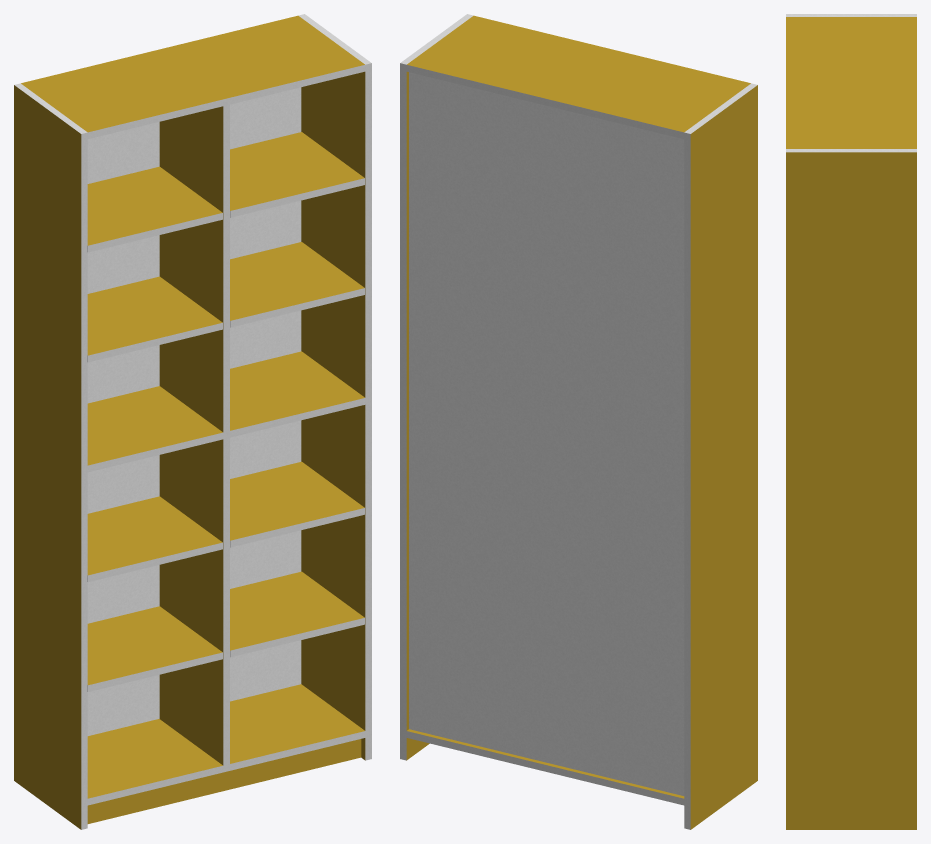
Rendered from FET-BKC-std.glb.
3 views of the same model, side by side, from view 1: azimuth 30°, elevation 25°; view 2: azimuth 150°, elevation 25°; view 3: azimuth 270°, elevation 25° (orthographic). The views are drawn at different scales.
Parts seen in each view (by area): view 1: side-l:pbr, back:sheet:eyJtIjoibWRmIiwic2lkZSI6ImZhY2UiLCJzZWVkIjo0LCJ0a, side-r:pbr, partition:pbr, top:pbr, bottom:pbr, shelf-fixedl:pbr, shelf-3:pbr, shelf-5:pbr, shelf-7:pbr, shelf-1:pbr, shelf-fixedr:pbr (+20 smaller); view 2: back:sheet:eyJtIjoibWRmIiwic2lkZSI6ImZhY2UiLCJzZWVkIjo0LCJ0a, side-l:pbr, top:pbr, side-l:sheet:eyJtIjoibWRmIiwic2lkZSI6ImVkZ2UtbG9uZyIsInNlZWQ, side-r:sheet:eyJtIjoibWRmIiwic2lkZSI6ImVkZ2UtbG9uZyIsInNlZWQ, side-r:pbr, bottom:sheet:eyJtIjoibWRmIiwic2lkZSI6ImVkZ2UtbG9uZyIsInNlZWQ, top:sheet:eyJtIjoibWRmIiwic2lkZSI6ImVkZ2UtbG9uZyIsInNlZWQiOj, bottom:pbr; view 3: side-r:pbr, top:pbr, side-r:sheet:eyJtIjoibWRmIiwic2lkZSI6ImVkZ2UtZW5kIiwic2VlZCI, side-l:sheet:eyJtIjoibWRmIiwic2lkZSI6ImVkZ2UtZW5kIiwic2VlZCI.
Part boxes in pixels (x1,y1,x2,y2): side-l:pbr: (14, 85, 81, 829); back:sheet:eyJtIjoibWRmIiwic2lkZSI6ImZhY2UiLCJzZWVkIjo0LCJ0a: (87, 87, 301, 735); side-r:pbr: (301, 71, 365, 760); partition:pbr: (159, 106, 223, 765); top:pbr: (21, 15, 364, 132); bottom:pbr: (87, 684, 364, 798); shelf-fixedl:pbr: (87, 386, 222, 465); shelf-3:pbr: (87, 496, 222, 575); shelf-5:pbr: (87, 276, 222, 355); shelf-7:pbr: (87, 166, 222, 245); shelf-1:pbr: (87, 606, 222, 685); shelf-fixedr:pbr: (230, 351, 364, 430); back:sheet:eyJtIjoibWRmIiwic2lkZSI6ImZhY2UiLCJzZWVkIjo0LCJ0a: (409, 72, 684, 795); side-l:pbr: (690, 85, 757, 829); top:pbr: (407, 15, 750, 132); side-l:sheet:eyJtIjoibWRmIiwic2lkZSI6ImVkZ2UtbG9uZyIsInNlZWQ: (684, 132, 690, 829); side-r:sheet:eyJtIjoibWRmIiwic2lkZSI6ImVkZ2UtbG9uZyIsInNlZWQ: (400, 63, 406, 760); side-r:pbr: (406, 71, 429, 760); bottom:sheet:eyJtIjoibWRmIiwic2lkZSI6ImVkZ2UtbG9uZyIsInNlZWQ: (406, 731, 684, 805); top:sheet:eyJtIjoibWRmIiwic2lkZSI6ImVkZ2UtbG9uZyIsInNlZWQiOj: (406, 65, 684, 138); bottom:pbr: (407, 729, 684, 798); side-r:pbr: (786, 152, 916, 829); top:pbr: (786, 17, 916, 148); side-r:sheet:eyJtIjoibWRmIiwic2lkZSI6ImVkZ2UtZW5kIiwic2VlZCI: (786, 149, 916, 152); side-l:sheet:eyJtIjoibWRmIiwic2lkZSI6ImVkZ2UtZW5kIiwic2VlZCI: (786, 14, 916, 16).
Size of the model in its own units: 0.8 by 1.83 by 0.32.
51 materials, 35 textured.
